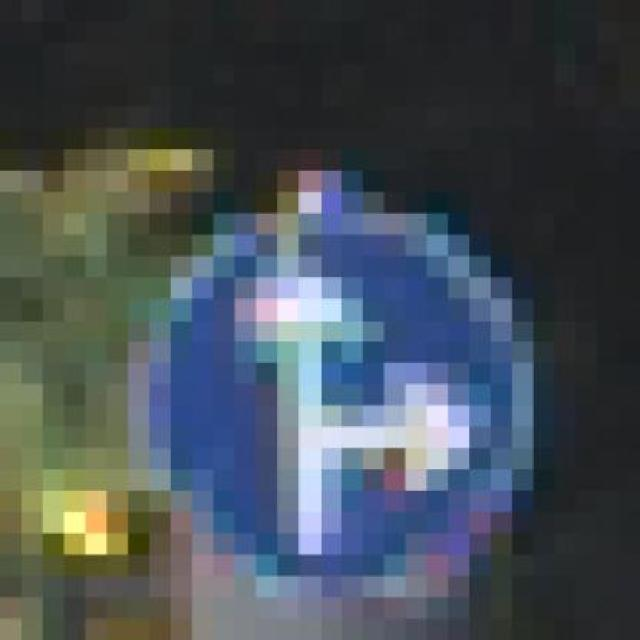Go Straight or Turn Right: (128, 192, 534, 619)
